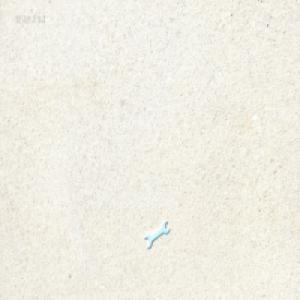Wrench: (144, 221, 168, 250)
